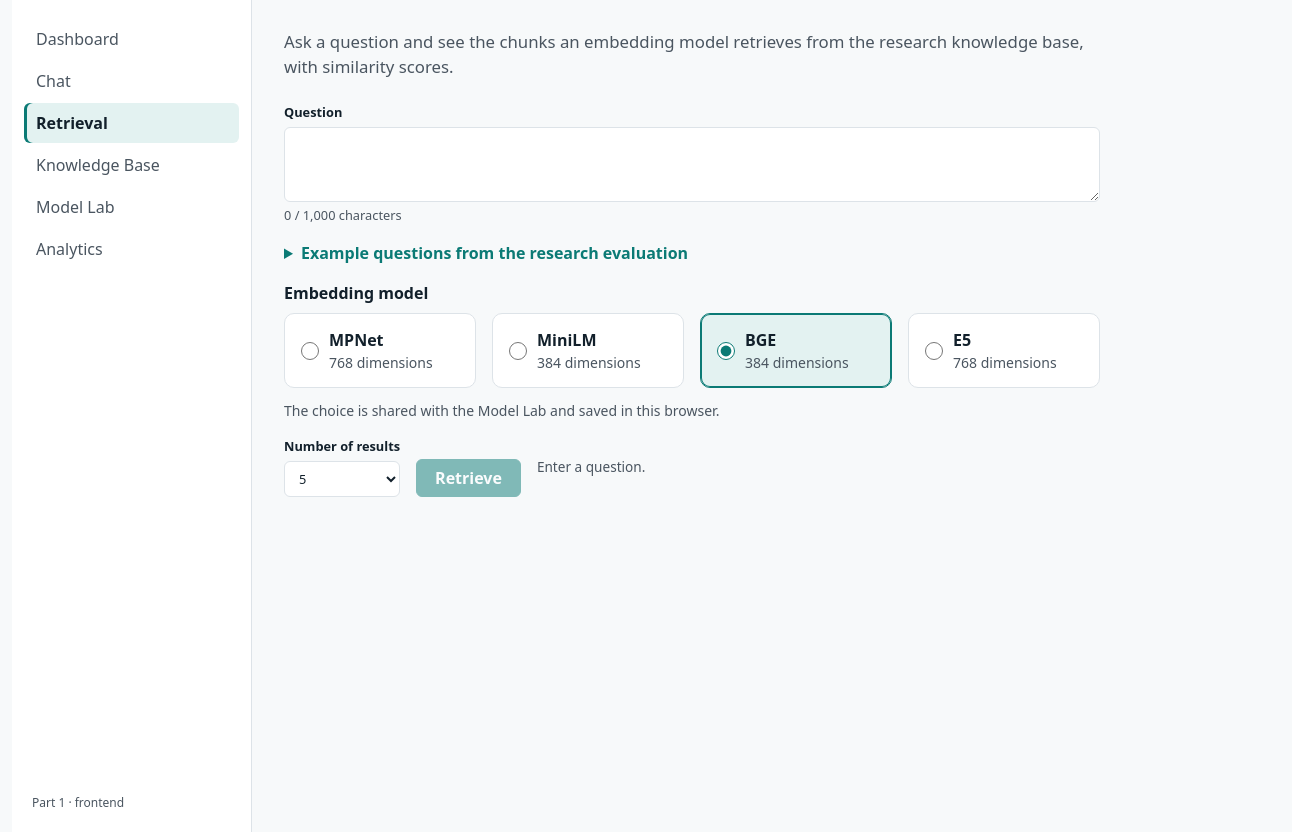
Test: Retrieval results › sends the trimmed question, model and number of results, and records the search in the address
Type "  What are the symptoms of asthma?  " into the text box labelled "Question". click: [692, 164]
box: [284,127,1100,202]
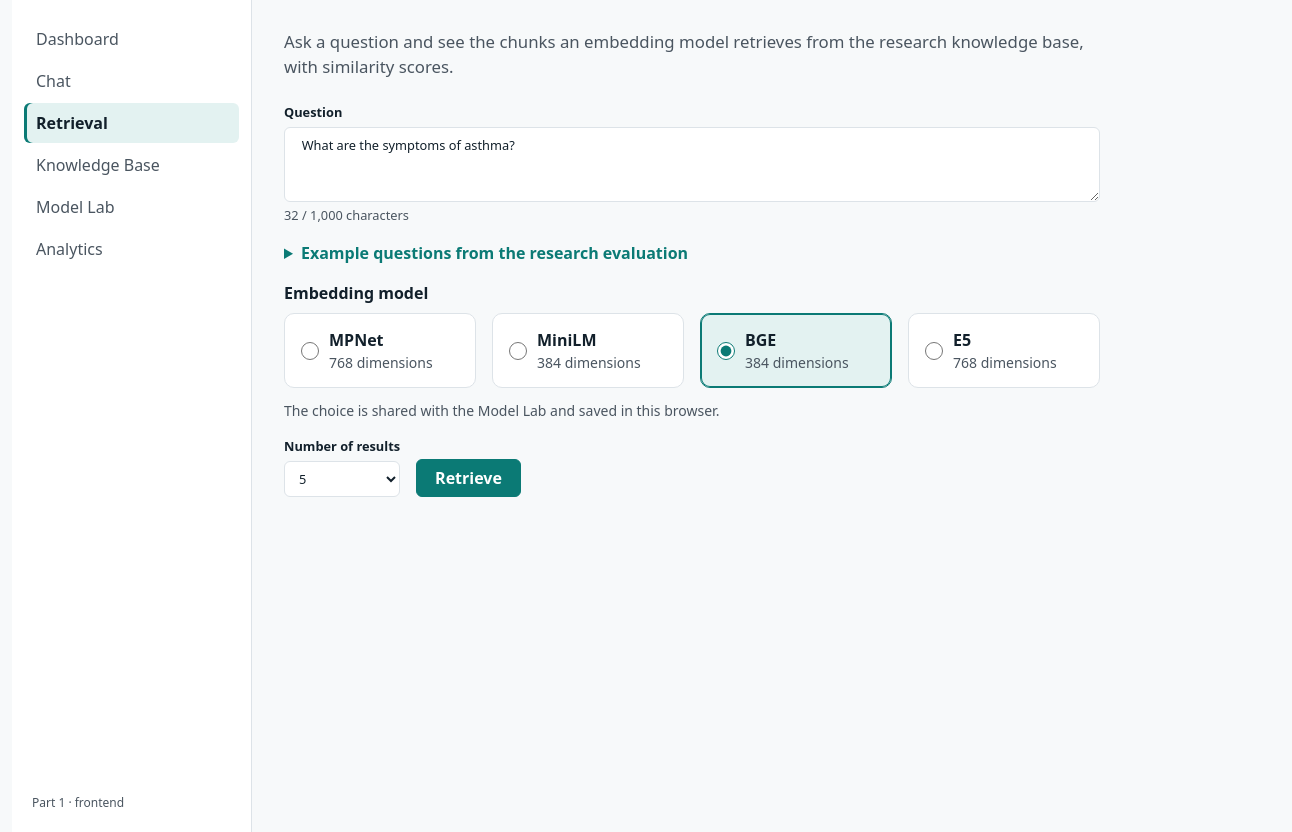
Select "4" in the dropdown labelled "Number of results". click: [342, 478]
box: [284,460,400,496]
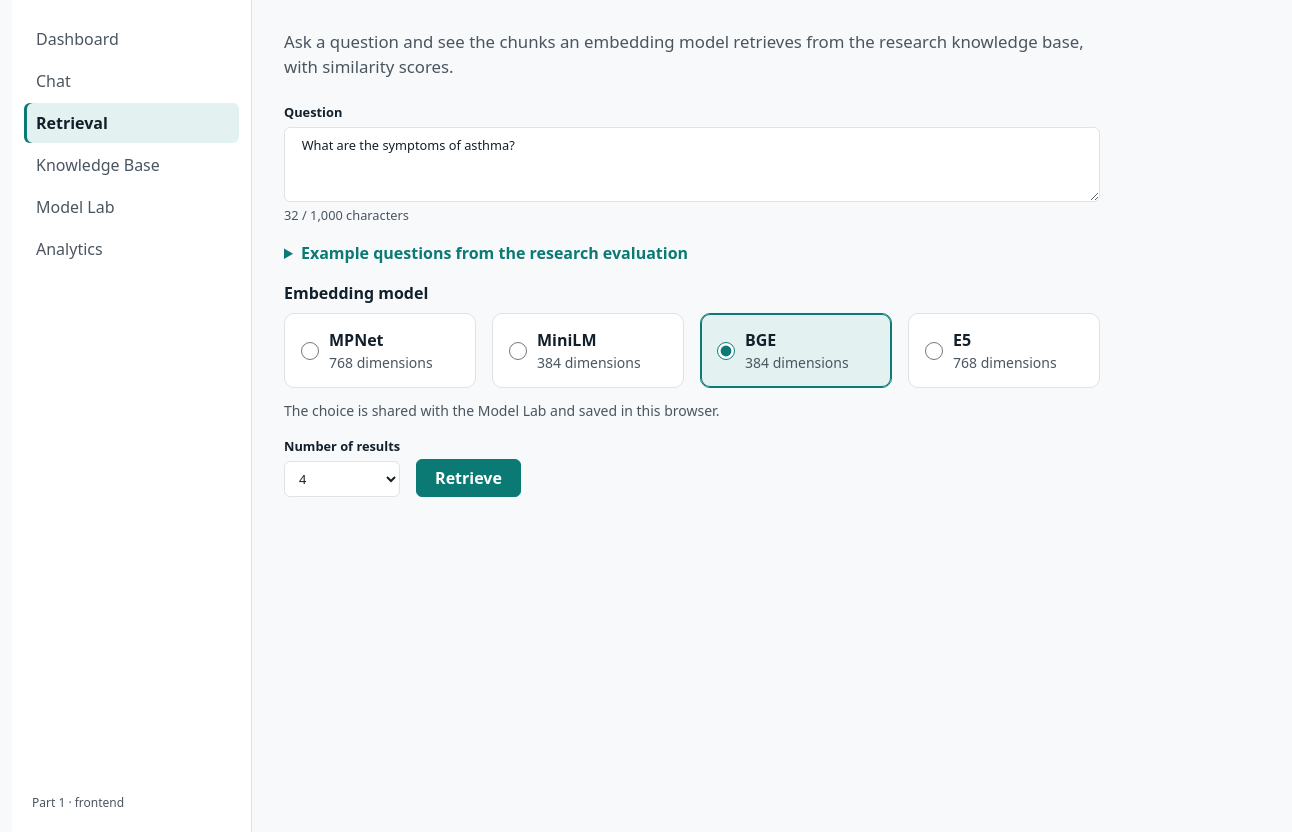
Click the button "Retrieve". click: [468, 478]
box: [416,458,521,496]
(page scrolled)
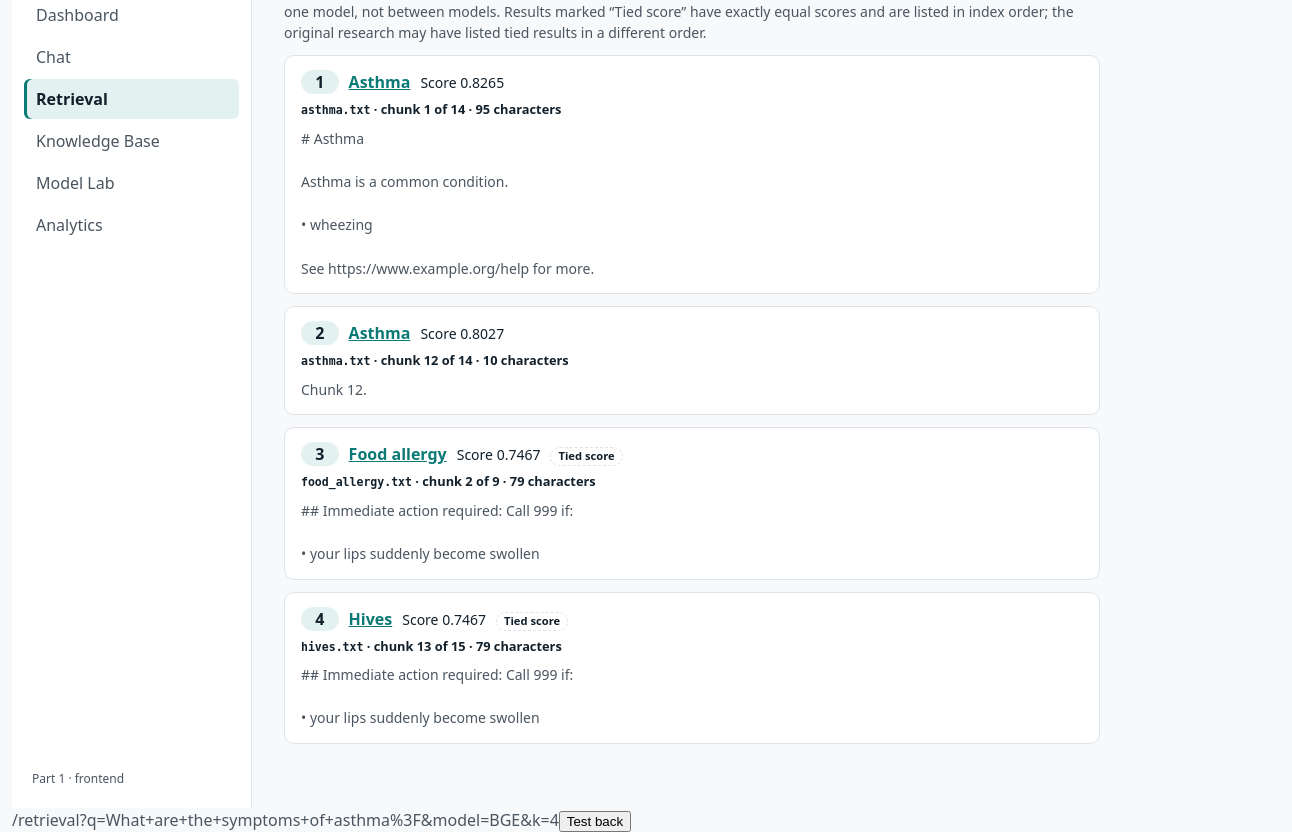
expect the text with test id "address" reads "/retrieval?q=What+are+the+symptoms+of+asthma%3F&model=BGE&k=4": met, box [12,809,559,831]
